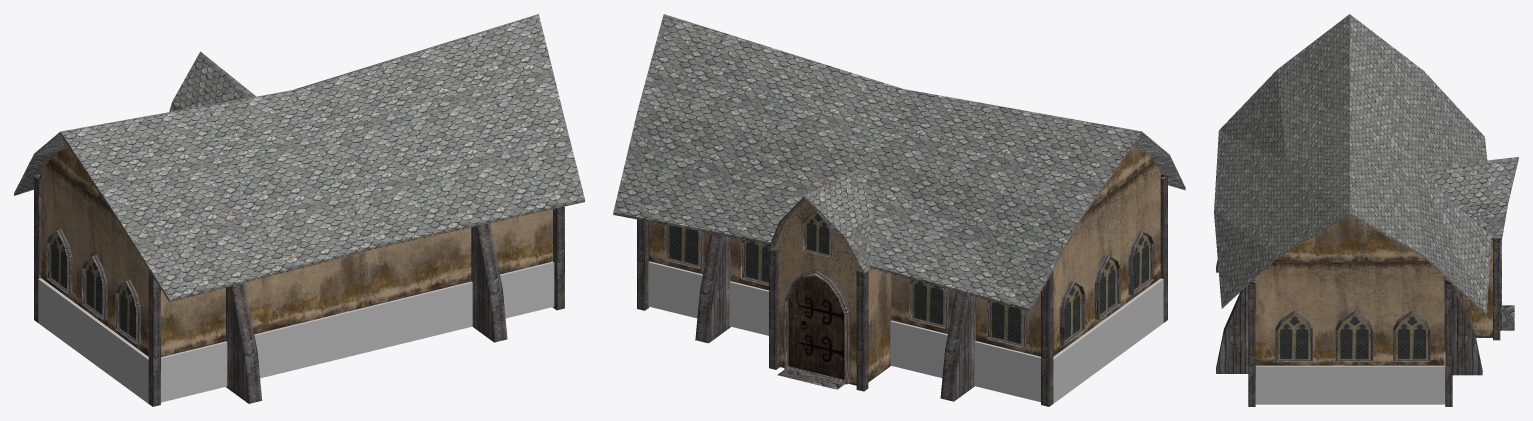
The model's file is v3_house8_LOD1.dae.
3 renders of one model, left to right at view 1: azimuth 30°, elevation 25°; view 2: azimuth 150°, elevation 25°; view 3: azimuth 270°, elevation 25°, orthographic. The views are drawn at different scales.
Parts seen in each view (by area): view 1: roof_02, con_dirt_01, bricks_old06, WoodPlanks_ornaments, windows_c; view 2: roof_02, con_dirt_01, WoodPlanks_ornaments, bricks_old06, windows_c, door_004; view 3: roof_02, con_dirt_01, WoodPlanks_ornaments, bricks_old06, windows_c.
Part boxes in pixels (left/top/right/bottom): roof_02: left=14, top=14, right=584, bottom=302; con_dirt_01: left=41, top=146, right=552, bottom=356; bricks_old06: left=38, top=261, right=554, bottom=403; WoodPlanks_ornaments: left=34, top=174, right=564, bottom=406; windows_c: left=50, top=233, right=135, bottom=339; roof_02: left=613, top=14, right=1185, bottom=311; con_dirt_01: left=649, top=146, right=1160, bottom=385; WoodPlanks_ornaments: left=637, top=174, right=1167, bottom=406; bricks_old06: left=648, top=261, right=1163, bottom=403; windows_c: left=667, top=212, right=1150, bottom=344; door_004: left=788, top=276, right=844, bottom=379; roof_02: left=1214, top=14, right=1518, bottom=315; con_dirt_01: left=1255, top=215, right=1492, bottom=365; WoodPlanks_ornaments: left=1216, top=238, right=1514, bottom=406; bricks_old06: left=1255, top=351, right=1445, bottom=404; windows_c: left=1278, top=314, right=1428, bottom=359.
Bounding box in the file's own units: 9.98 × 4.84 × 6.43.
